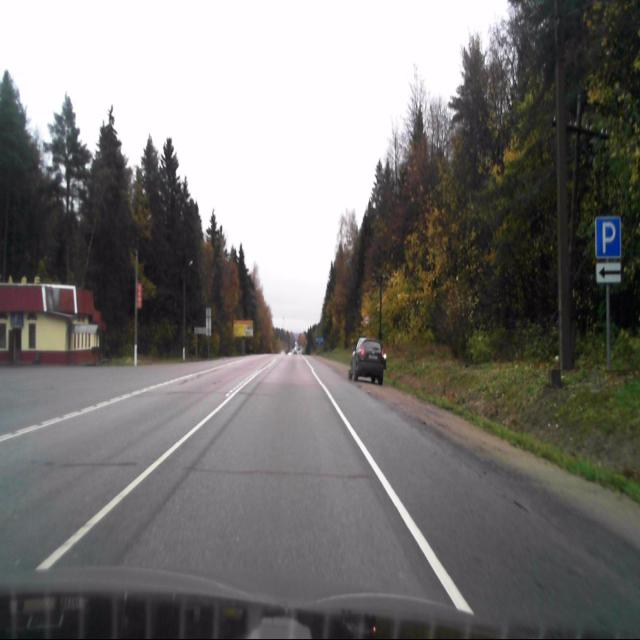road sign: (596, 217, 621, 260), (596, 263, 621, 284)
